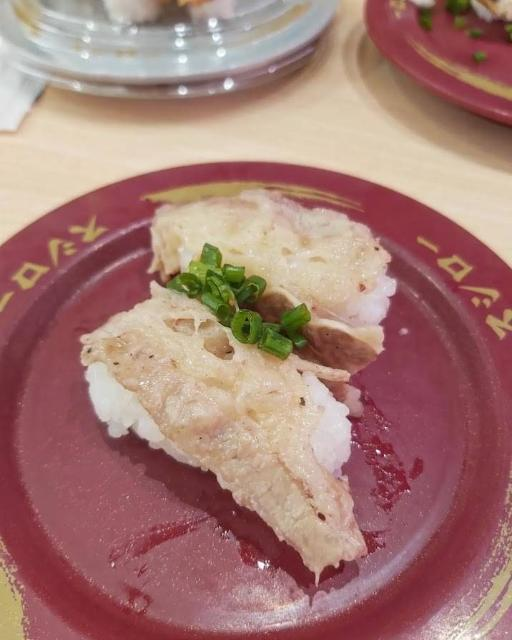janred: (0, 253, 501, 640), (373, 0, 512, 138)
janwhite: (0, 3, 329, 116)
